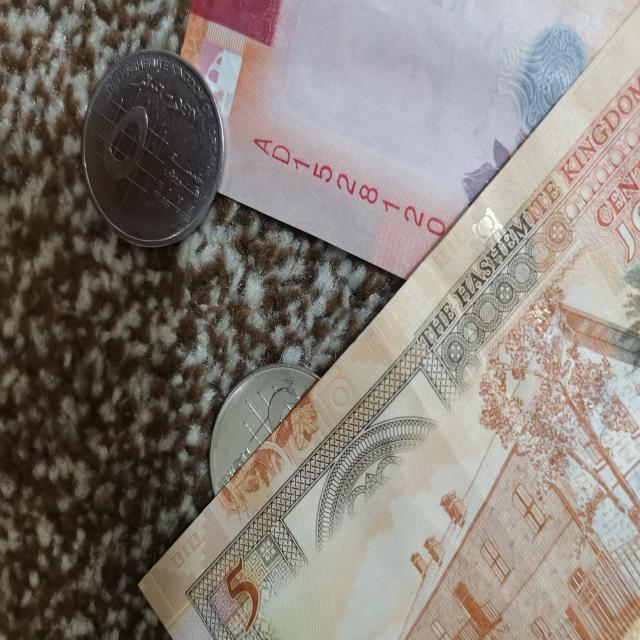5-coins: (78, 45, 225, 246), (209, 363, 320, 500)
5-dinar: (139, 0, 640, 638), (176, 0, 640, 291)
